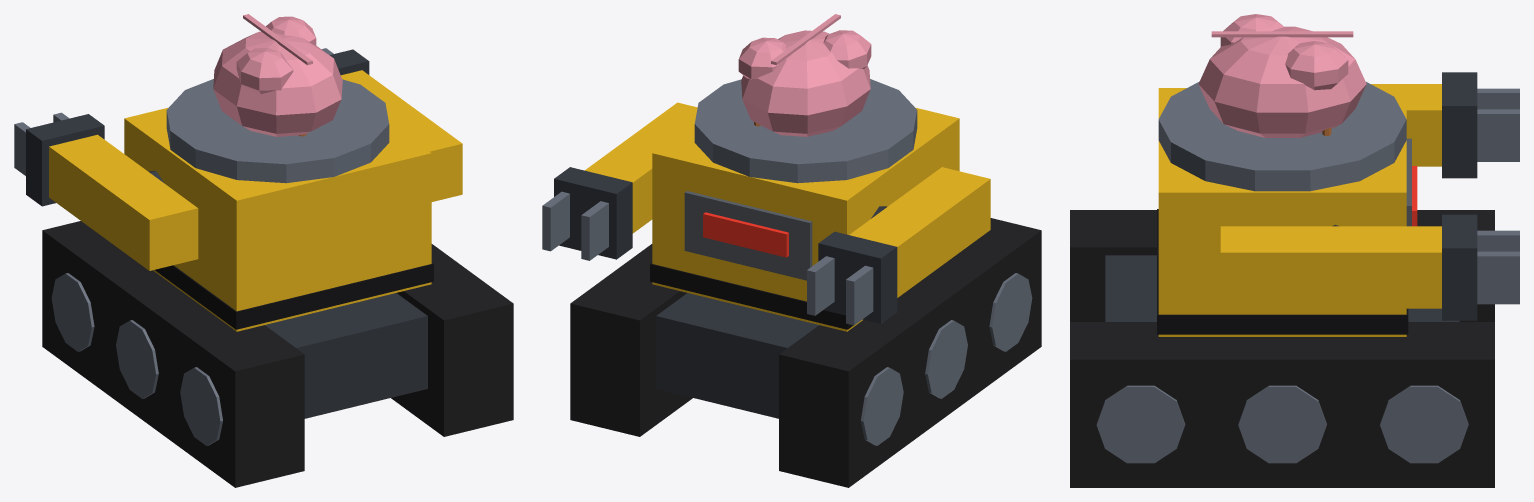
The model's file is boss_robobrain.glb.
The picture shows the model from 3 angles, left to right: view 1: azimuth 30°, elevation 25°; view 2: azimuth 150°, elevation 25°; view 3: azimuth 270°, elevation 25°; orthographic projection. The views are drawn at different scales.
Parts seen in each view (by area): view 1: boss_robobrain; view 2: boss_robobrain; view 3: boss_robobrain.
Boxes of the visible parts, <box> form: boss_robobrain: <box>14,14,513,487</box>; boss_robobrain: <box>542,14,1041,487</box>; boss_robobrain: <box>1070,14,1519,487</box>.
Bounding box in the file's own units: 2.35 × 2.38 × 2.54.
Materials: 1 (1 with a texture image).
